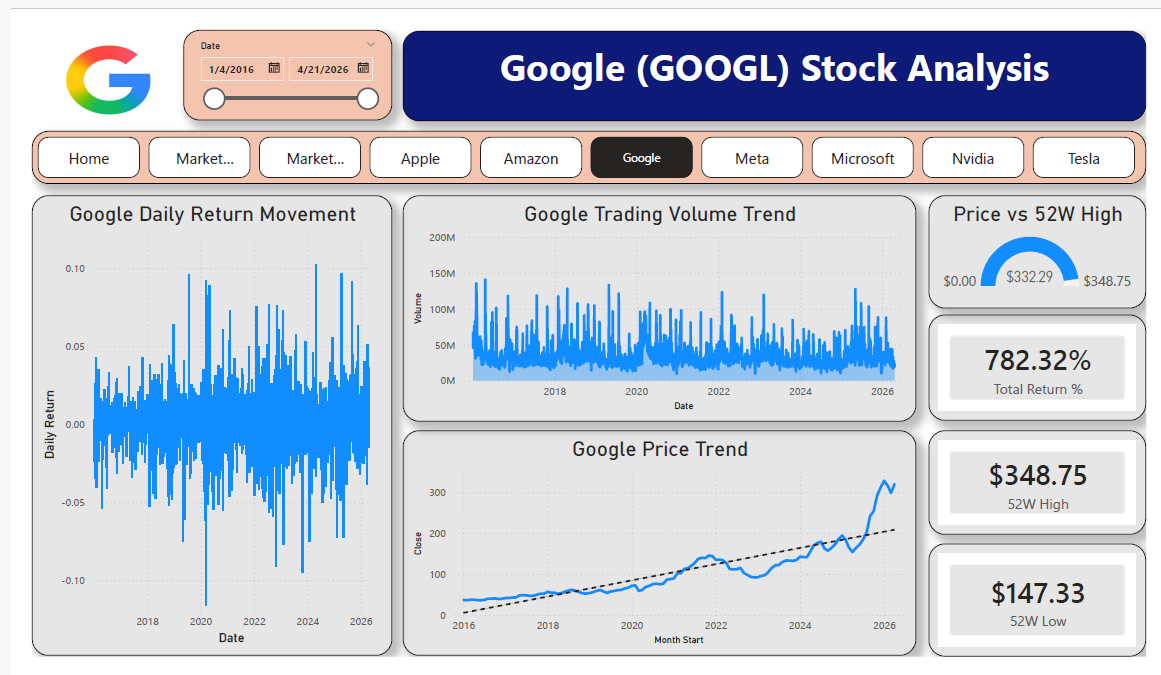

The dashboard page shown, as its layout file describes it:
{"tool":"powerbi","page":{"name":"Google","canvas":[1280,720],"ordinal":5},"visuals":[{"type":"image","box":[16.2,0,143.8,115],"z":0},{"type":"textbox","box":[426.2,1.2,853.8,103.8],"z":1000},{"type":"slicer","fields":{"Values":["DateTable.Date"]},"box":[173.8,0,240,103.8],"z":2000},{"type":"pageNavigator","box":[0,115.7,1280,61.4],"z":3000},{"type":"cardVisual","fields":{"Data":["mag7_powerbi_ready.Total Return %"]},"box":[1030,327.1,250,121.4],"z":5000},{"type":"cardVisual","fields":{"Data":["mag7_powerbi_ready.52W High"]},"box":[1030,460,250,120],"z":6000},{"type":"cardVisual","fields":{"Data":["mag7_powerbi_ready.52W Low"]},"box":[1030,590,250,130],"z":7000},{"type":"lineChart","title":"Google Price Trend ","fields":{"Y":["Avg(mag7_powerbi_ready.Close)"],"Category":["mag7_powerbi_ready.Month Start"]},"box":[426.2,460,590,258.8],"z":8000},{"type":"areaChart","title":"Google Trading Volume Trend","fields":{"Y":["Avg(mag7_powerbi_ready.Volume)"],"Category":["DateTable.Date"]},"box":[425.7,190,590,260],"z":9000},{"type":"clusteredColumnChart","title":"Google Daily Return Movement","fields":{"Y":["Avg(mag7_powerbi_ready.Daily_Return)"],"Category":["DateTable.Date"]},"box":[0,190,413.8,528.8],"z":10000},{"type":"gauge","title":"Price vs 52W High","fields":{"MaxValue":["mag7_powerbi_ready.52W High"],"Y":["mag7_powerbi_ready.Latest Close"]},"box":[1029.9,189.6,250.3,130.1],"z":10001}]}

Visuals, with their boxes on the page's 1280x720 design canvas (x1, y1, x2, y2). These are canvas units, not pixel positions in the 1161x675 screenshot, which may show the page scaled, cropped or inside an application window:
image: (x1=16, y1=0, x2=160, y2=115)
textbox: (x1=426, y1=1, x2=1280, y2=105)
slicer - DateTable.Date: (x1=174, y1=0, x2=414, y2=104)
pageNavigator: (x1=0, y1=116, x2=1280, y2=177)
cardVisual - mag7_powerbi_ready.Total Return %: (x1=1030, y1=327, x2=1280, y2=448)
cardVisual - mag7_powerbi_ready.52W High: (x1=1030, y1=460, x2=1280, y2=580)
cardVisual - mag7_powerbi_ready.52W Low: (x1=1030, y1=590, x2=1280, y2=720)
"Google Price Trend " lineChart: (x1=426, y1=460, x2=1016, y2=719)
"Google Trading Volume Trend" areaChart: (x1=426, y1=190, x2=1016, y2=450)
"Google Daily Return Movement" clusteredColumnChart: (x1=0, y1=190, x2=414, y2=719)
"Price vs 52W High" gauge: (x1=1030, y1=190, x2=1280, y2=320)
